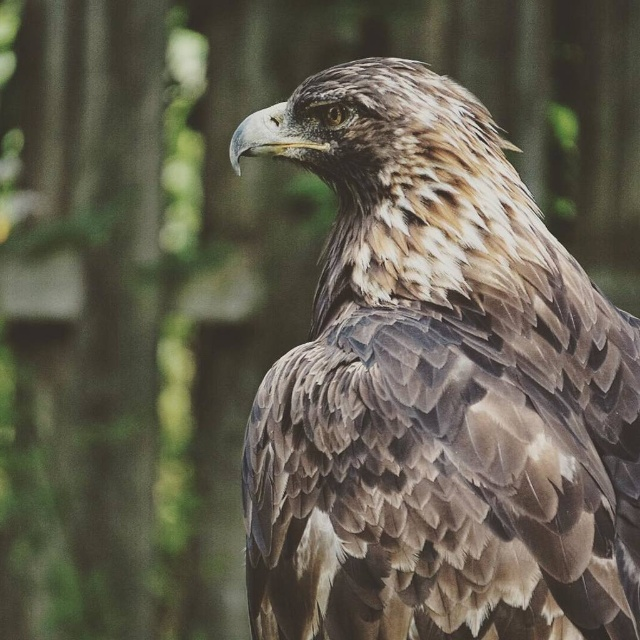Eagle: (228, 59, 639, 639)
